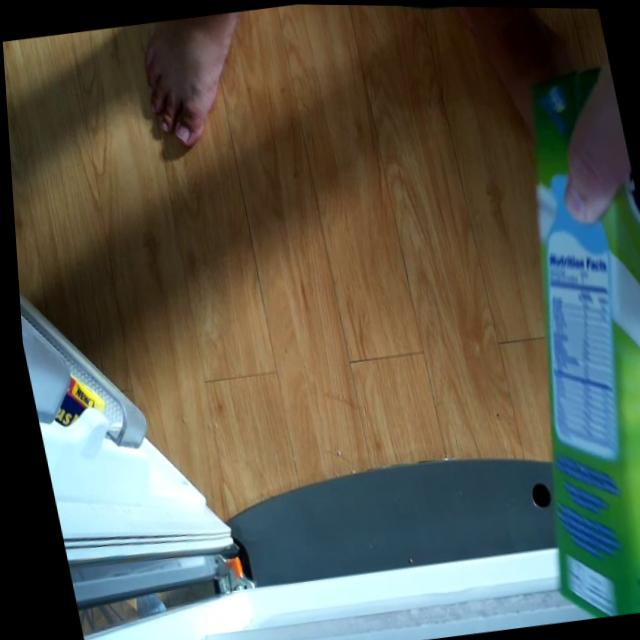milk: (447, 44, 640, 621)
